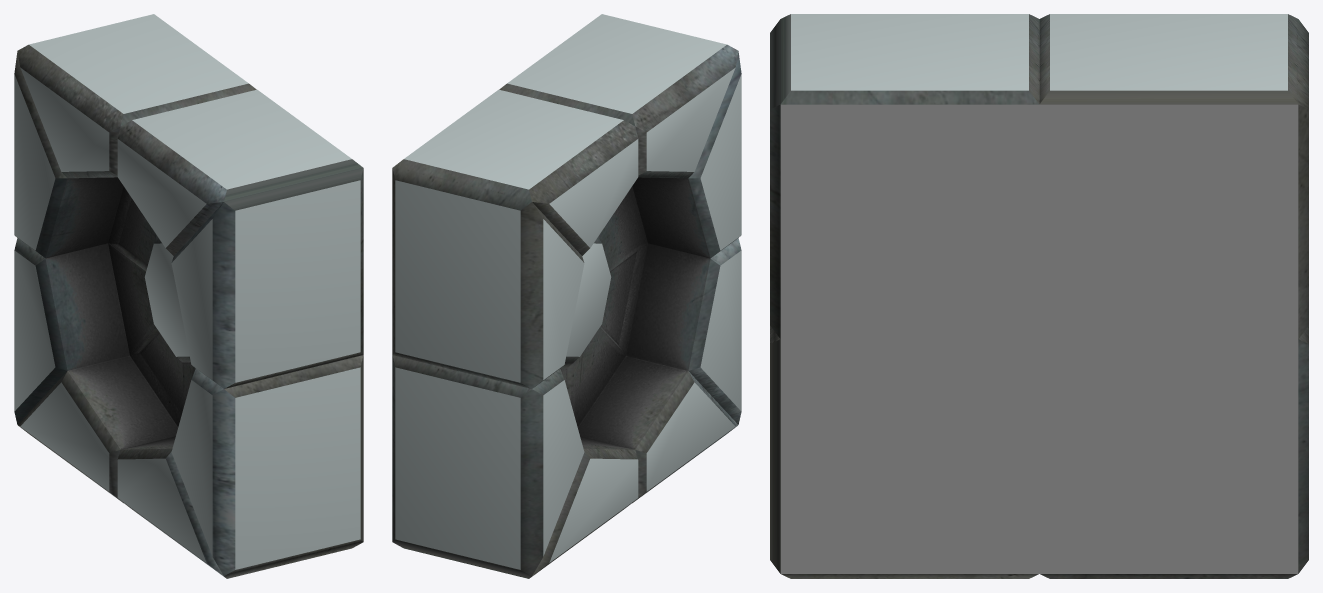
The model's file is ChargingDock.fbx.
3 renders of one model, left to right at view 1: azimuth 30°, elevation 25°; view 2: azimuth 150°, elevation 25°; view 3: azimuth 270°, elevation 25°, orthographic. The views are drawn at different scales.
Visible parts, largest first — view 1: pCylinder5; view 2: pCylinder5; view 3: pCylinder5.
Boxes of the visible parts, x1=… form: pCylinder5: x1=14, y1=14, x2=363, y2=578; pCylinder5: x1=392, y1=14, x2=741, y2=578; pCylinder5: x1=770, y1=14, x2=1308, y2=578.
Bounding box in the file's own units: 0.4088 × 1.04 × 1.04.
